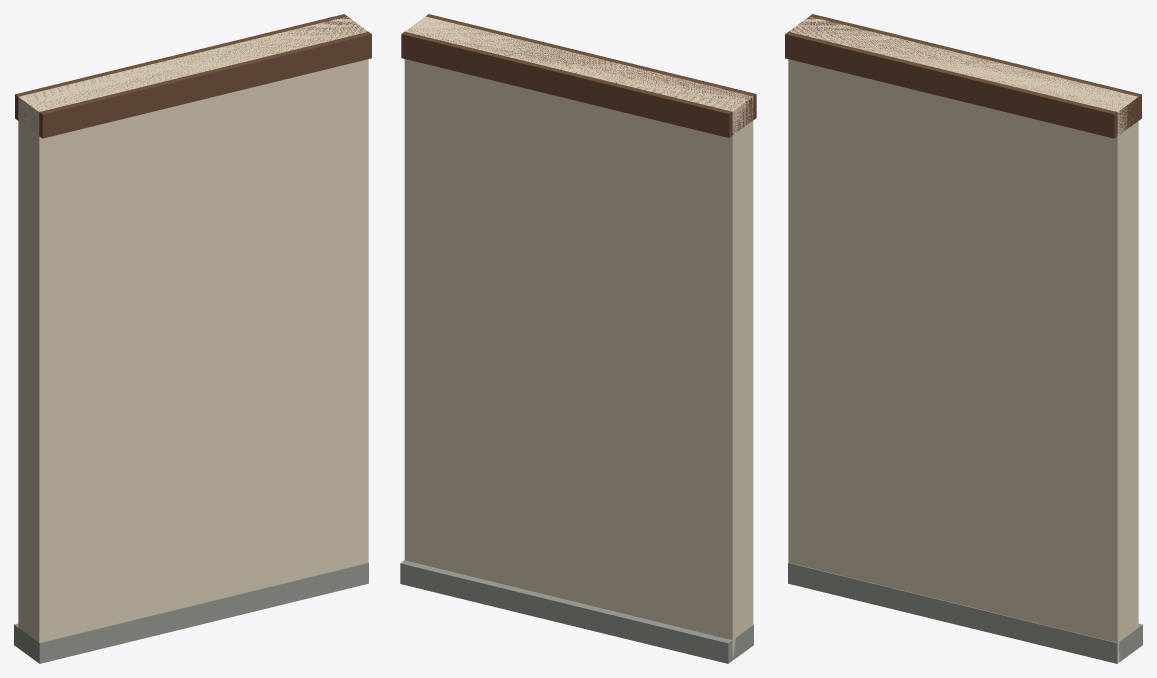
The model's file is wall_plain_2m.glb.
The picture shows the model from 3 angles, left to right: view 1: azimuth 30°, elevation 25°; view 2: azimuth 150°, elevation 25°; view 3: azimuth 330°, elevation 25°; orthographic projection.
Visible parts, largest first — view 1: wall_plain_2m; view 2: wall_plain_2m; view 3: wall_plain_2m.
Part boxes in pixels (<box>): wall_plain_2m: <box>14,14,371,663</box>; wall_plain_2m: <box>400,14,756,663</box>; wall_plain_2m: <box>785,14,1142,663</box>.
Size of the model in its own units: 2 by 3.2 by 0.3.
